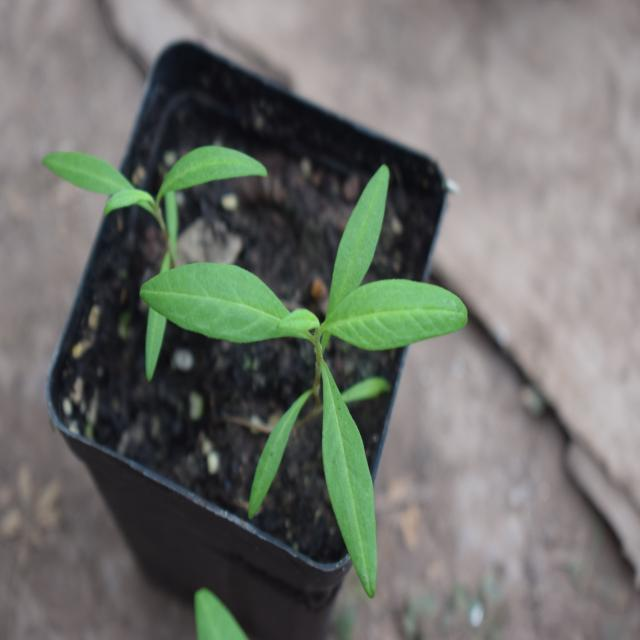white_smart_weed: (134, 170, 503, 558), (34, 119, 287, 291)
